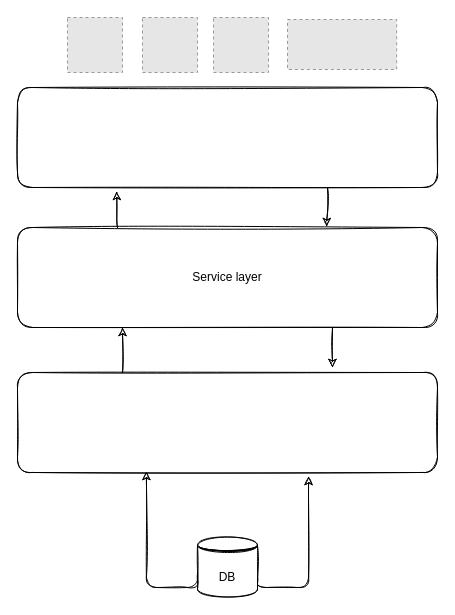
The diagram is 455 pixels wide and 615 high, and some of its shapes have lost their labels. Grey dashed boxes stand in for pictures. Here are the shapes that lost their labels. From the top down, the box of each, then its label:
(16, 86, 438, 188): Controller layer
(16, 372, 438, 472): Repository layer
